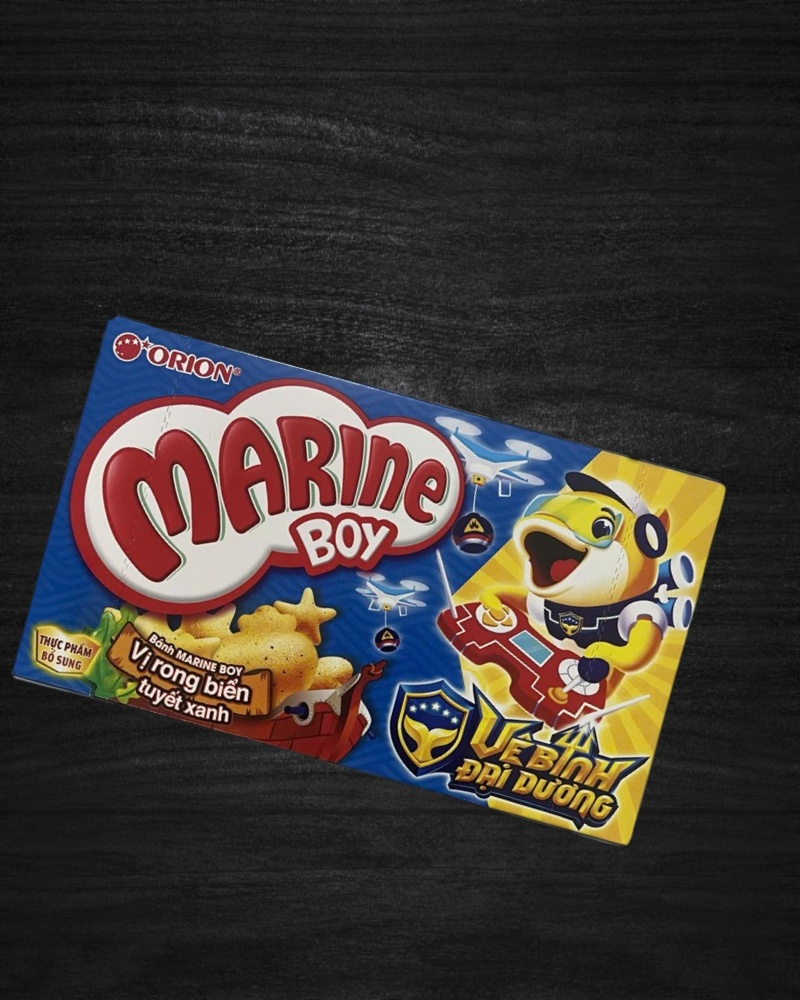Marine: (11, 314, 731, 850)
